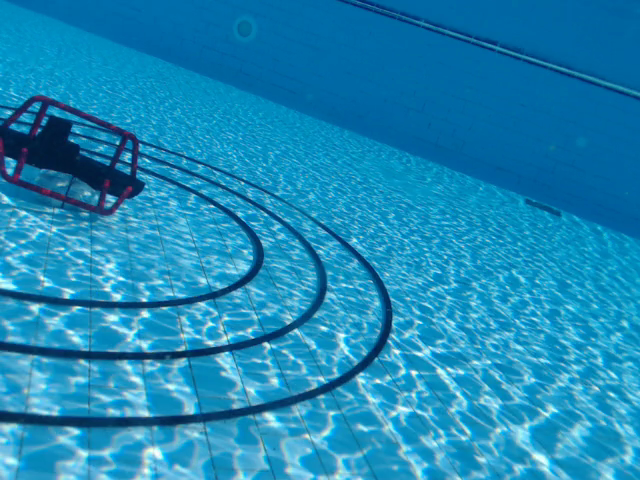submarine: (1, 93, 146, 217)
